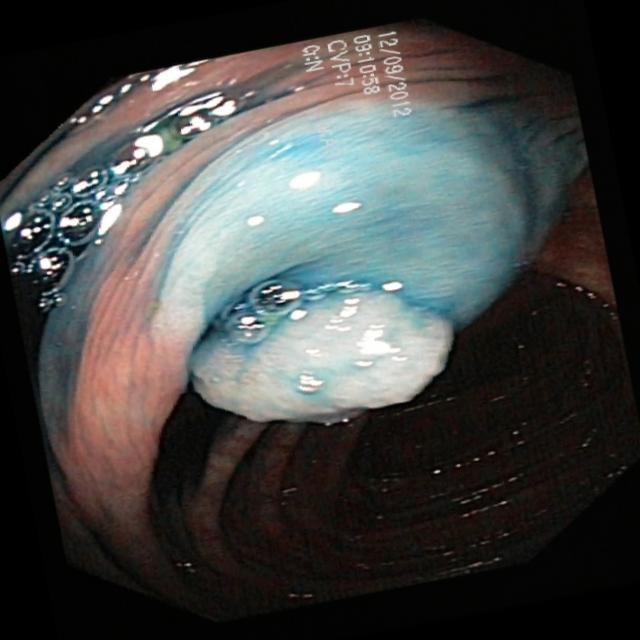dyed-lifted-polyps: (187, 278, 468, 429)
